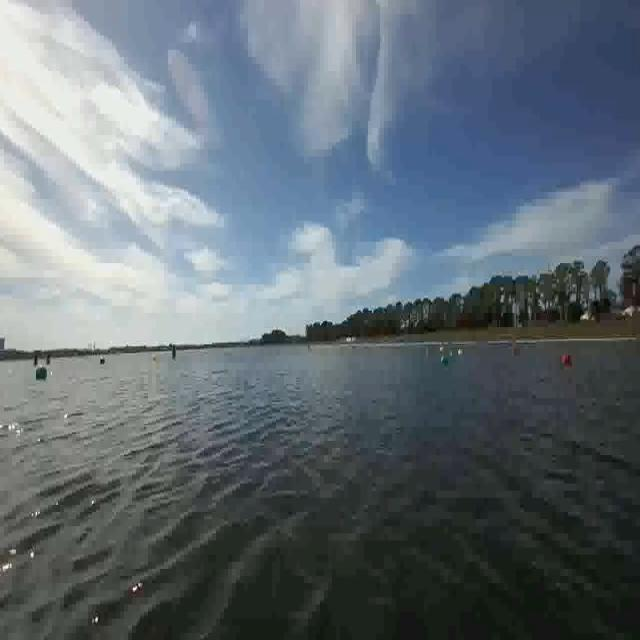blue-buoy: (438, 352, 448, 368)
green-buoy: (34, 364, 49, 381)
red-buoy: (563, 354, 572, 366)
